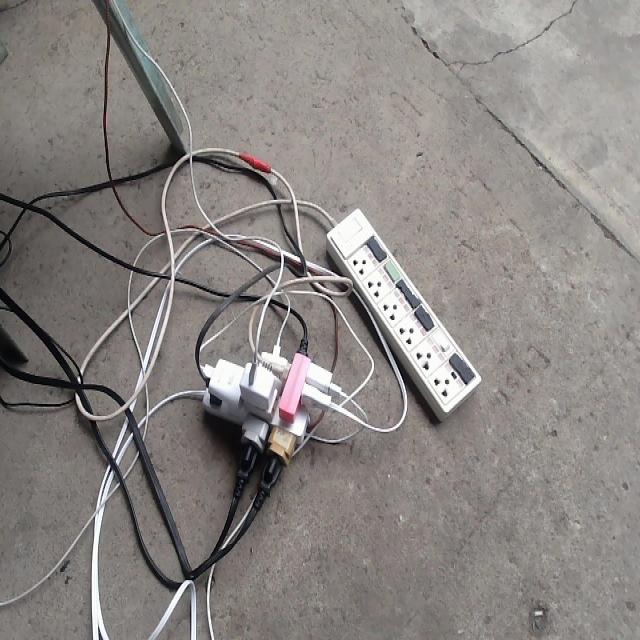-: (199, 332, 330, 477)
